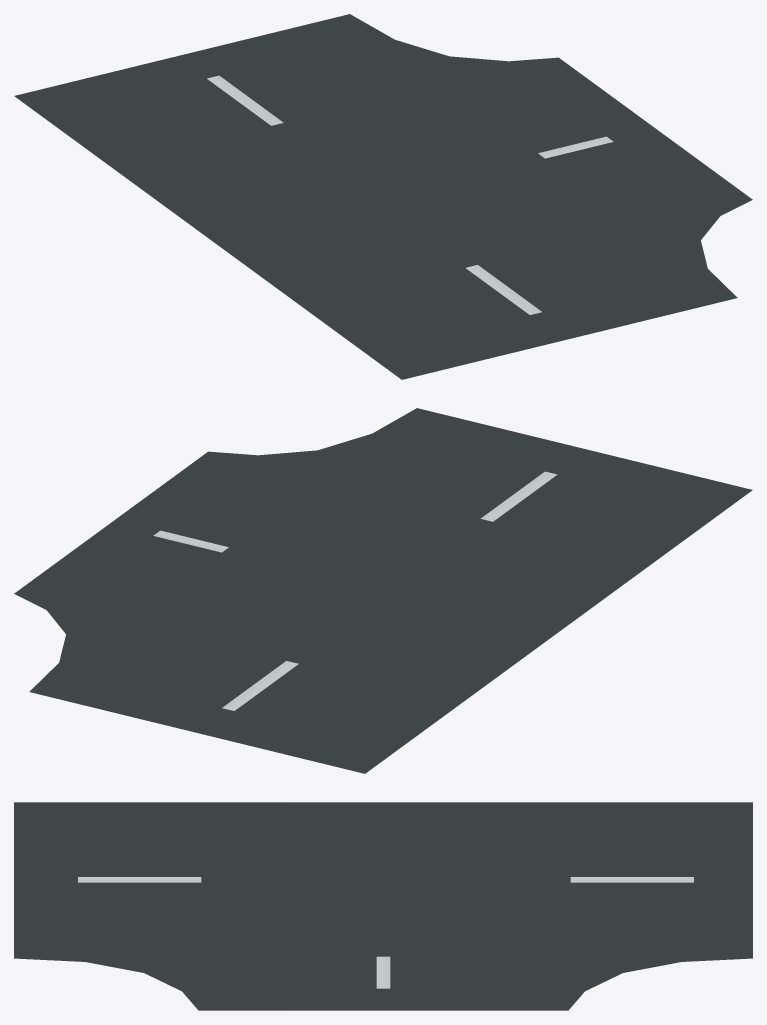
The model's file is Road_2_112.fbx.
3 views of the same model, one above another, from view 1: azimuth 30°, elevation 25°; view 2: azimuth 150°, elevation 25°; view 3: azimuth 270°, elevation 25° (orthographic). The views are drawn at different scales.
Visible parts, largest first — view 1: Road_2_112; view 2: Road_2_112; view 3: Road_2_112.
Part boxes in pixels (bbox=[...]): Road_2_112: bbox=[14, 14, 752, 379]; Road_2_112: bbox=[14, 408, 752, 773]; Road_2_112: bbox=[14, 802, 752, 1010].
Size of the model in its own units: 1200 by 1.66 by 1800.
